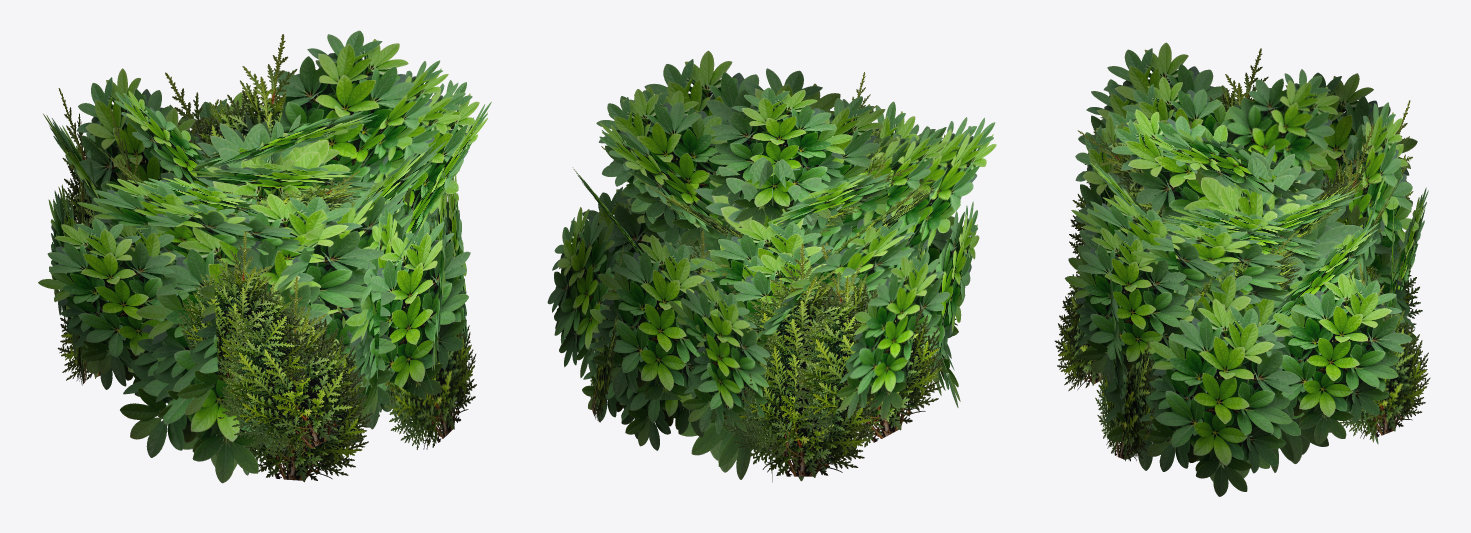
The model's file is bush_leafy_01.gltf.
The picture shows the model from 3 angles, left to right: view 1: azimuth 30°, elevation 25°; view 2: azimuth 150°, elevation 25°; view 3: azimuth 270°, elevation 25°; orthographic projection. The views are drawn at different scales.
Parts seen in each view (by area): view 1: bush_leafy_01; view 2: bush_leafy_01; view 3: bush_leafy_01.
Boxes of the visible parts, left/top/right/bottom form: bush_leafy_01: left=38, top=30, right=491, bottom=483; bush_leafy_01: left=547, top=50, right=996, bottom=482; bush_leafy_01: left=1054, top=42, right=1430, bottom=496.
Bounding box in the file's own units: 1.19 × 0.9677 × 1.05.
1 material, 1 textured.
